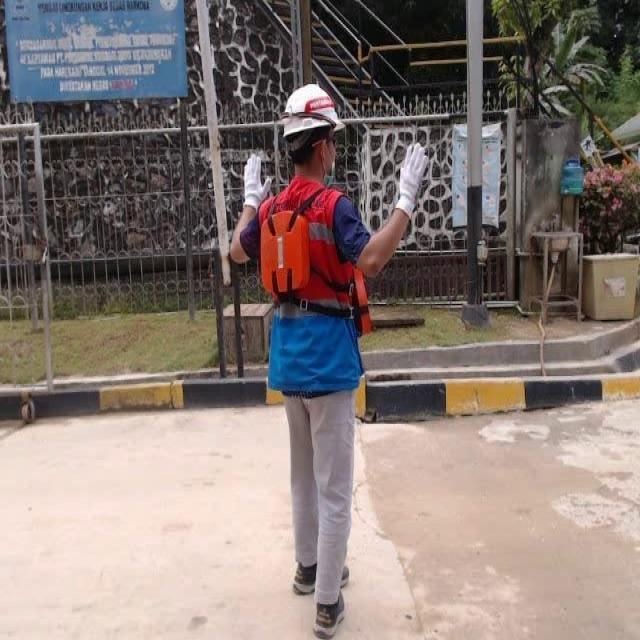Vest: (258, 208, 317, 296)
